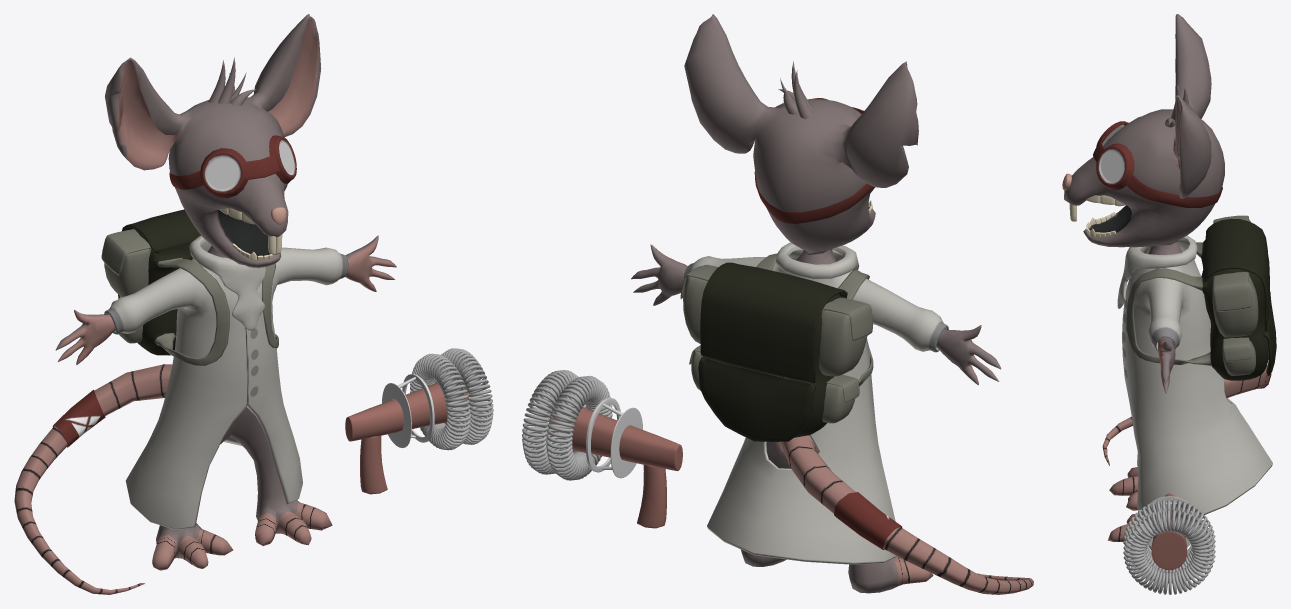
The model's file is Rat.fbx.
The picture shows the model from 3 angles, left to right: view 1: azimuth 30°, elevation 25°; view 2: azimuth 150°, elevation 25°; view 3: azimuth 270°, elevation 25°; orthographic projection. The views are drawn at different scales.
Parts seen in each view (by area): view 1: Rat, Gun; view 2: Rat, Gun; view 3: Rat, Gun.
Part boxes in pixels (x1,y1,x2,y2): Rat: (14, 14, 396, 594); Gun: (345, 348, 493, 494); Rat: (631, 14, 1033, 594); Gun: (522, 370, 682, 528); Rat: (1062, 14, 1276, 549); Gun: (1123, 493, 1215, 594).
Bounding box in the file's own units: 0.8909 × 0.9754 × 0.406.
Materials: 4 (1 with a texture image).
